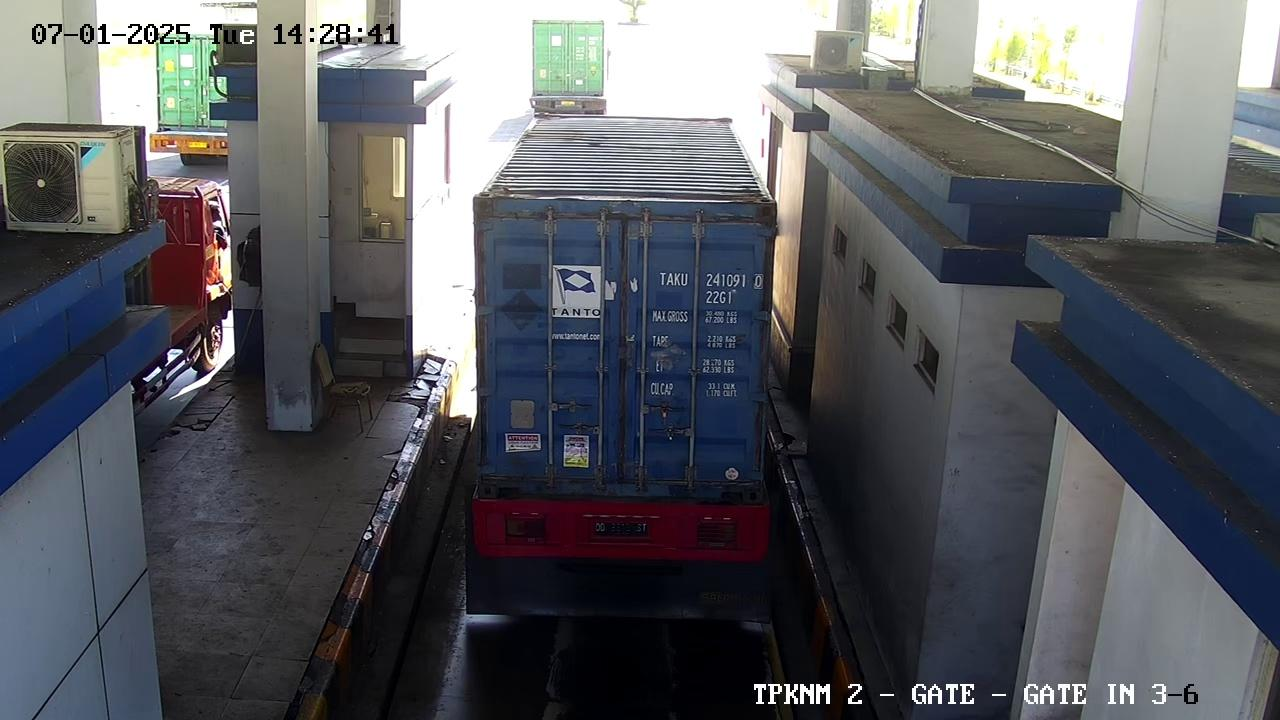Container_ID: (653, 268, 767, 293)
